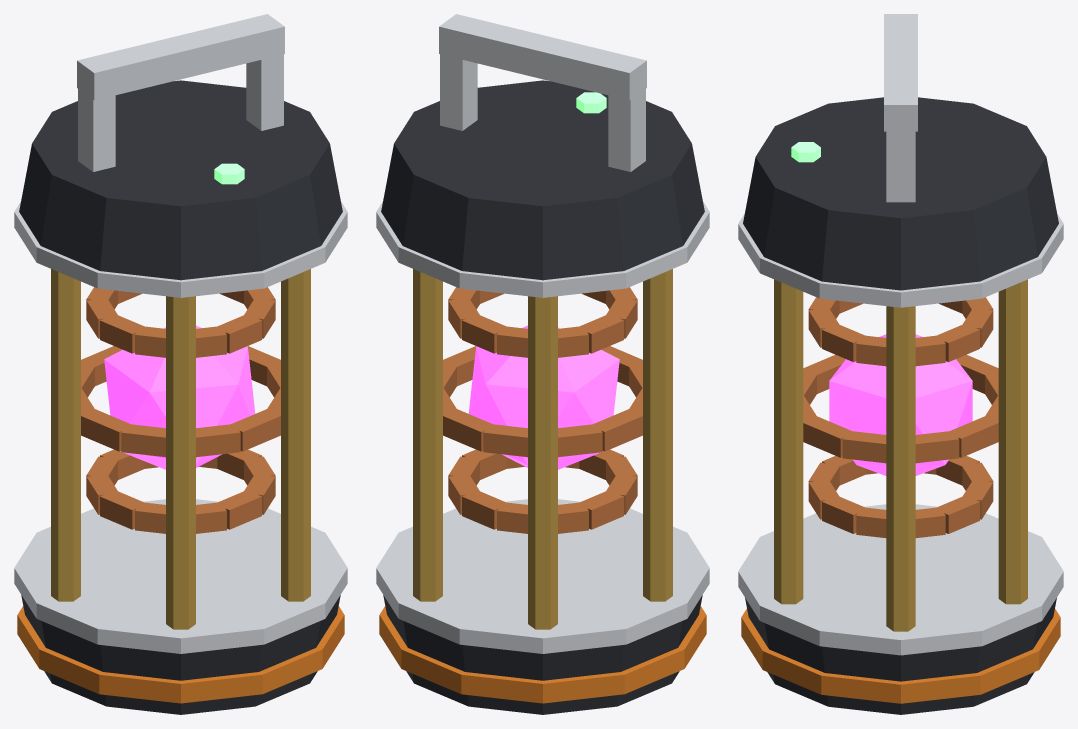
Rendered from antimatter_quality.glb.
3 views of the same model, side by side, from view 1: azimuth 30°, elevation 25°; view 2: azimuth 150°, elevation 25°; view 3: azimuth 270°, elevation 25° (orthographic). The views are drawn at different scales.
Parts seen in each view (by area): view 1: antimatter_quality; view 2: antimatter_quality; view 3: antimatter_quality.
Boxes of the visible parts, bbox=[...] form: antimatter_quality: bbox=[14, 14, 347, 714]; antimatter_quality: bbox=[376, 14, 709, 714]; antimatter_quality: bbox=[738, 14, 1063, 714].
Size of the model in its own units: 0.1545 by 0.311 by 0.1545.
